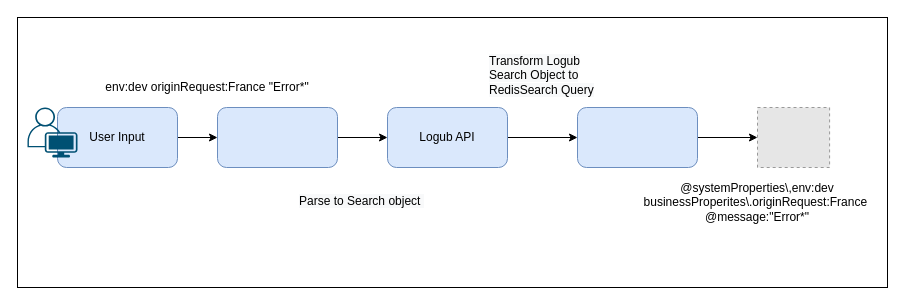
The diagram is 905 pixels wide and 305 high, and some of its shapes have lost their labels. Grey dashed boxes stand in for pictures. The centre of each missing label's shape, as x and y in pixels:
"JRedisSearch" goes at point 637,137.
"Logub App (front)" goes at point 277,137.
